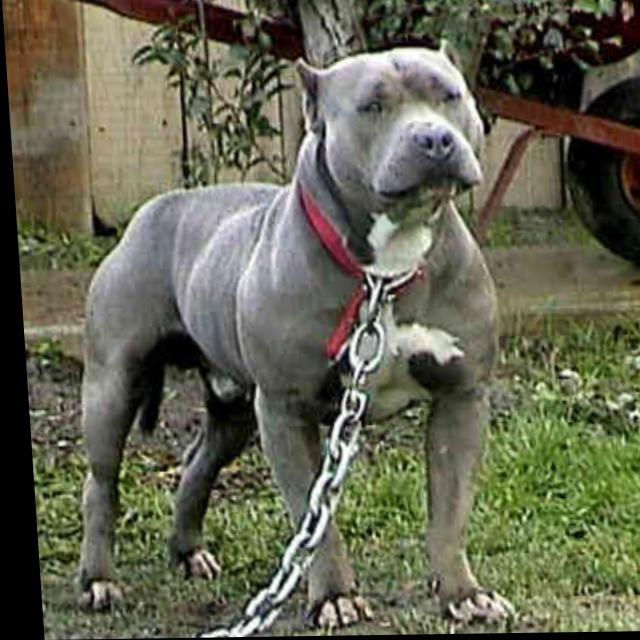am_pit_bull_terrier: (40, 39, 515, 639)
